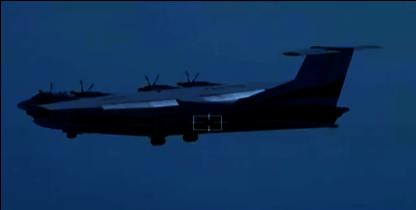AG600: (18, 40, 384, 144)
